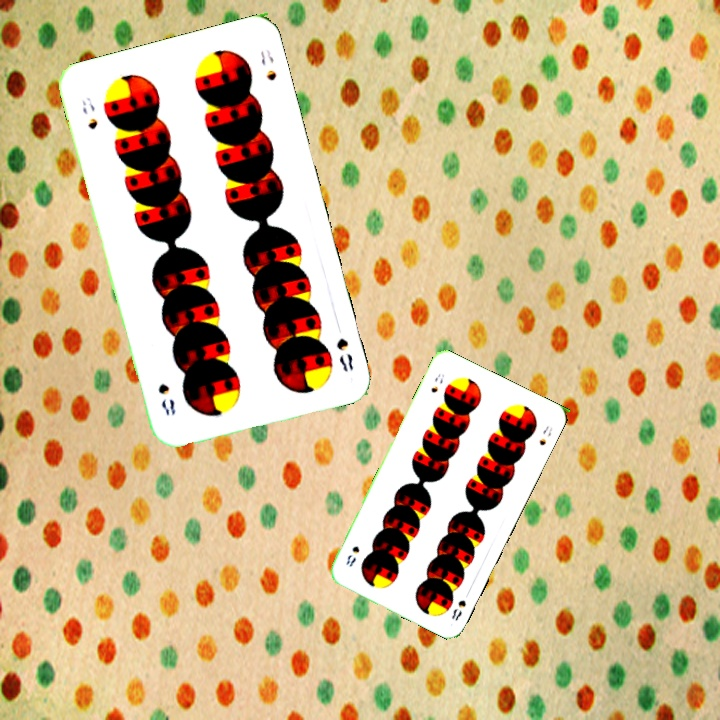S8: (332, 334, 356, 375), (77, 93, 101, 132), (447, 596, 469, 623), (427, 370, 447, 395)
